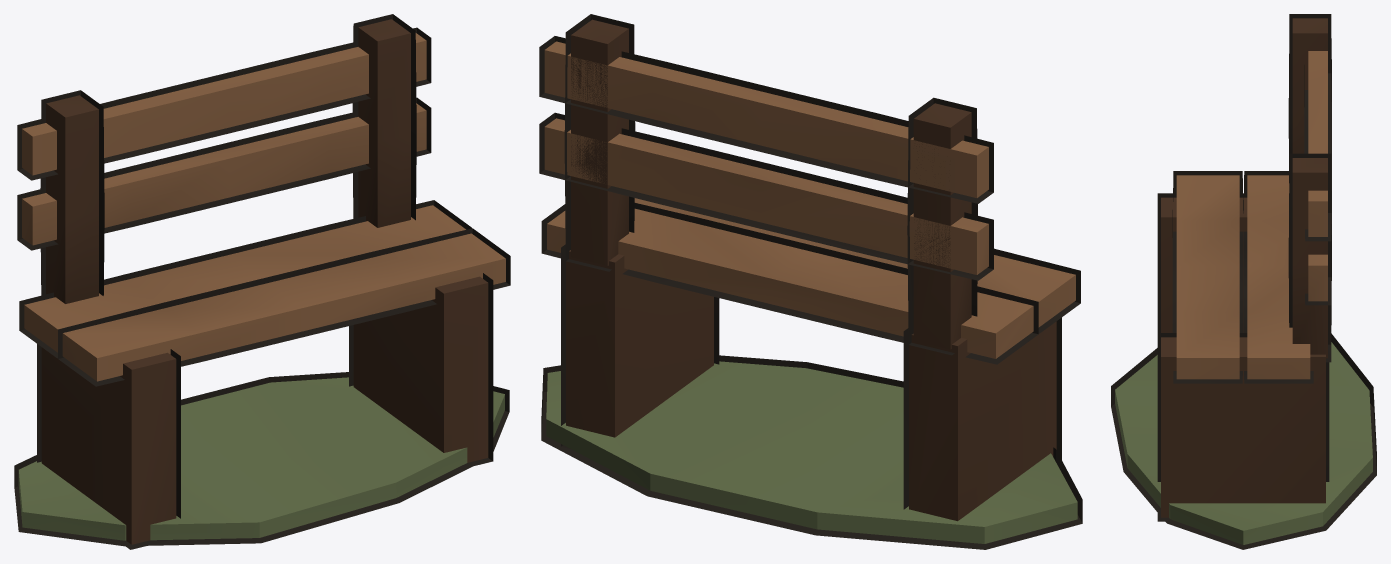
The model's file is banc.glb.
3 renders of one model, left to right at view 1: azimuth 30°, elevation 25°; view 2: azimuth 150°, elevation 25°; view 3: azimuth 270°, elevation 25°, orthographic. The views are drawn at different scales.
Visible parts, largest first — view 1: banc, banc_outline; view 2: banc, banc_outline; view 3: banc, banc_outline.
Boxes of the visible parts, x1=… form: banc: x1=18, y1=19, x2=505, y2=544; banc_outline: x1=14, y1=14, x2=510, y2=549; banc: x1=544, y1=19, x2=1077, y2=543; banc_outline: x1=539, y1=14, x2=1082, y2=549; banc: x1=1115, y1=18, x2=1372, y2=544; banc_outline: x1=1111, y1=14, x2=1376, y2=549.
Bounding box in the file's own units: 1.32 × 0.9776 × 0.6762.
